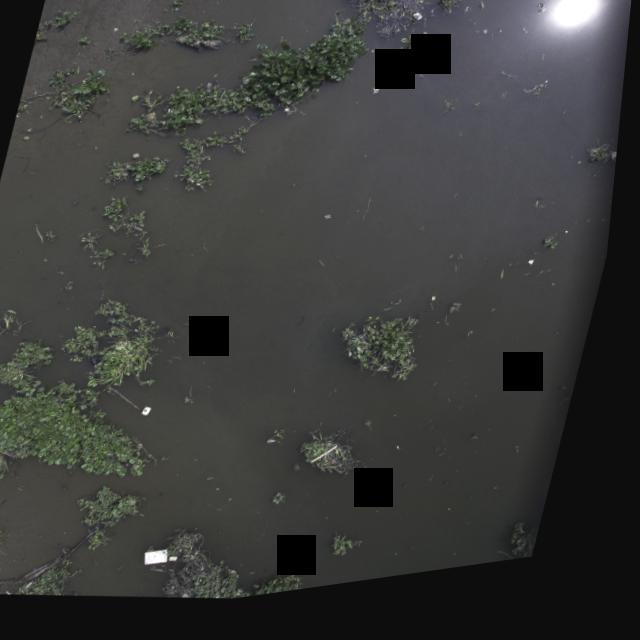plastic: (148, 548, 185, 576), (409, 18, 428, 38), (146, 408, 164, 424), (372, 95, 388, 108), (178, 559, 194, 572), (530, 272, 544, 283), (192, 596, 206, 607), (611, 166, 622, 180), (327, 221, 340, 232), (111, 28, 122, 37), (225, 601, 237, 608)
